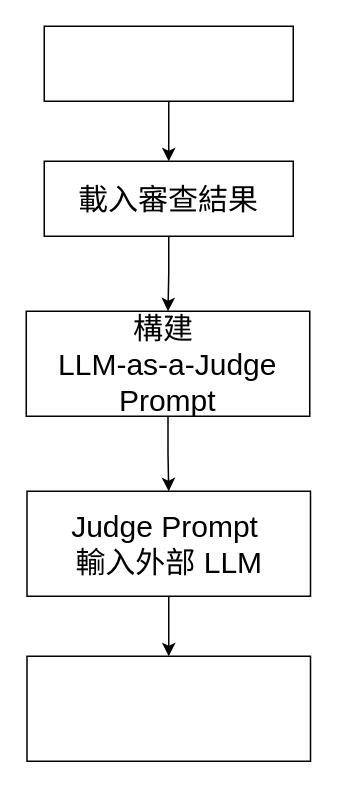
Some shapes in this 338 by 788 pixel diagram are drawn without their labels. Each missing label, with the centre of its shape:
"產生評分跟輸出建議" belongs at (168,708).
"載入原始碼" belongs at (168,63).
